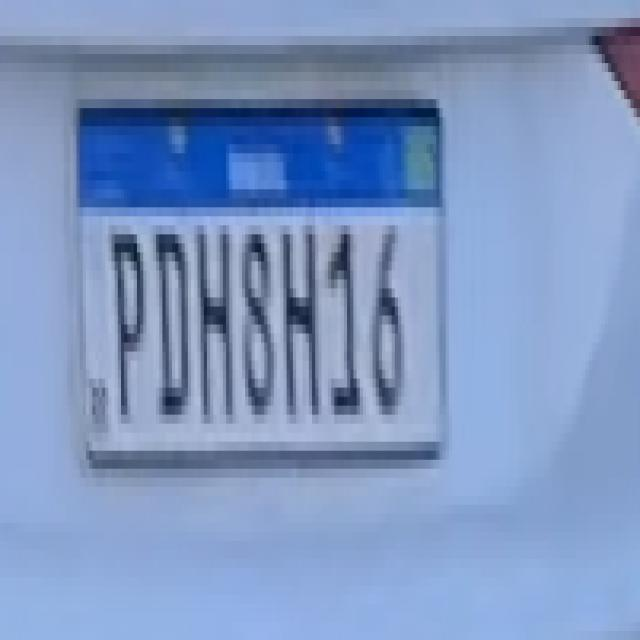Placa_mercosul_carro: (74, 85, 448, 479)
